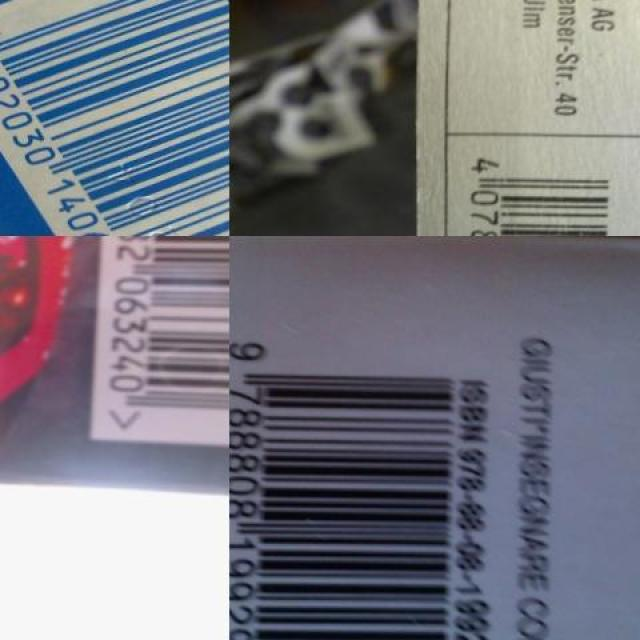Barcode: (229, 328, 503, 640), (0, 0, 229, 236), (90, 236, 230, 447), (445, 136, 639, 236)
